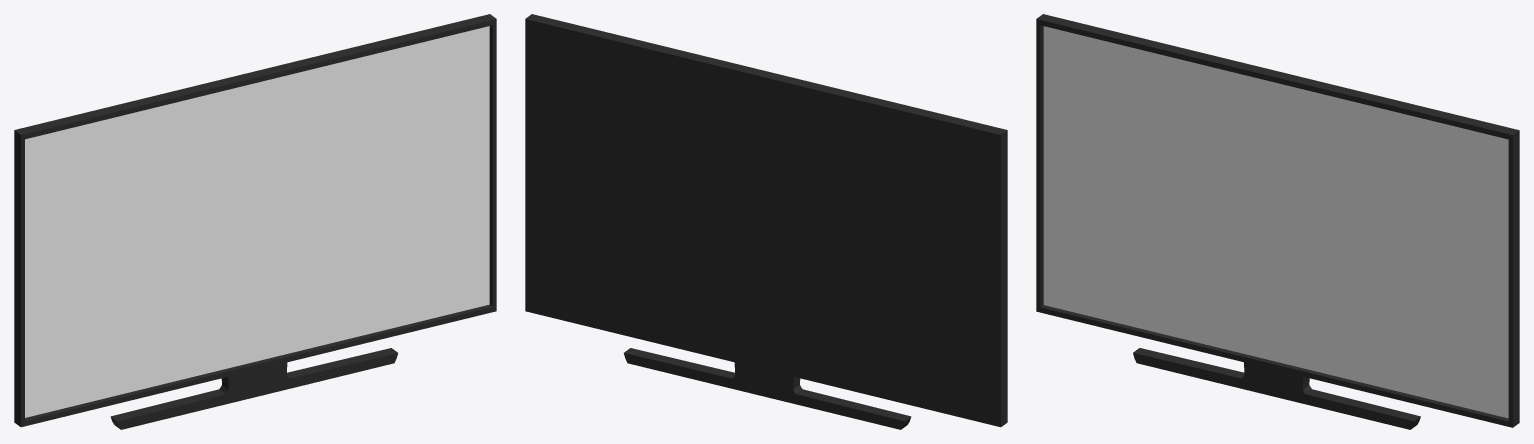
File: stylization-tv.gltf
3 views of the same model, side by side, from view 1: azimuth 30°, elevation 25°; view 2: azimuth 150°, elevation 25°; view 3: azimuth 330°, elevation 25° (orthographic).
Parts seen in each view (by area): view 1: StylizationTV; view 2: StylizationTV; view 3: StylizationTV.
Part boxes in pixels (bbox=[...]): StylizationTV: bbox=[14, 14, 496, 429]; StylizationTV: bbox=[525, 14, 1007, 429]; StylizationTV: bbox=[1036, 14, 1519, 429].
Size of the model in its own units: 0.4 by 0.2565 by 0.00986.
2 materials, 1 textured.
